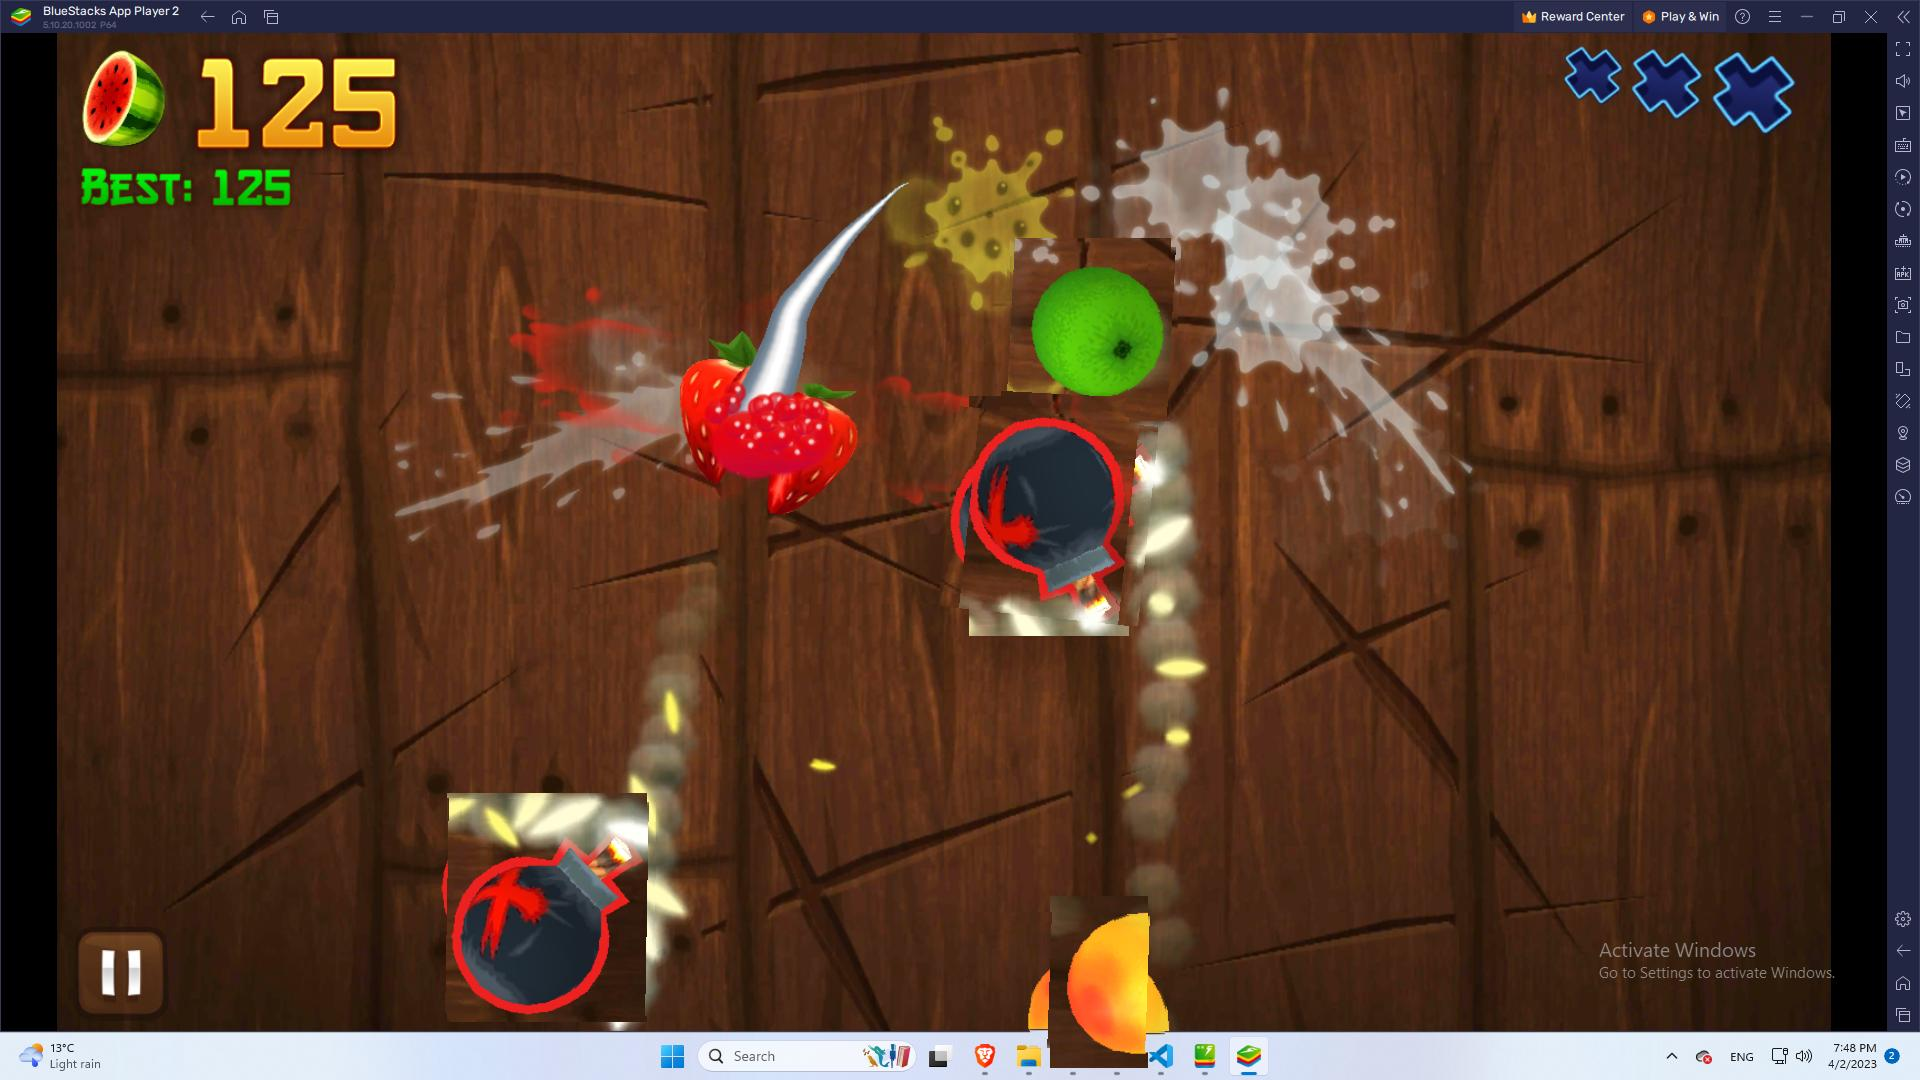bomb: (439, 799, 657, 1015), (943, 411, 1154, 621)
fruit: (1002, 241, 1179, 418), (1031, 914, 1168, 1051)
